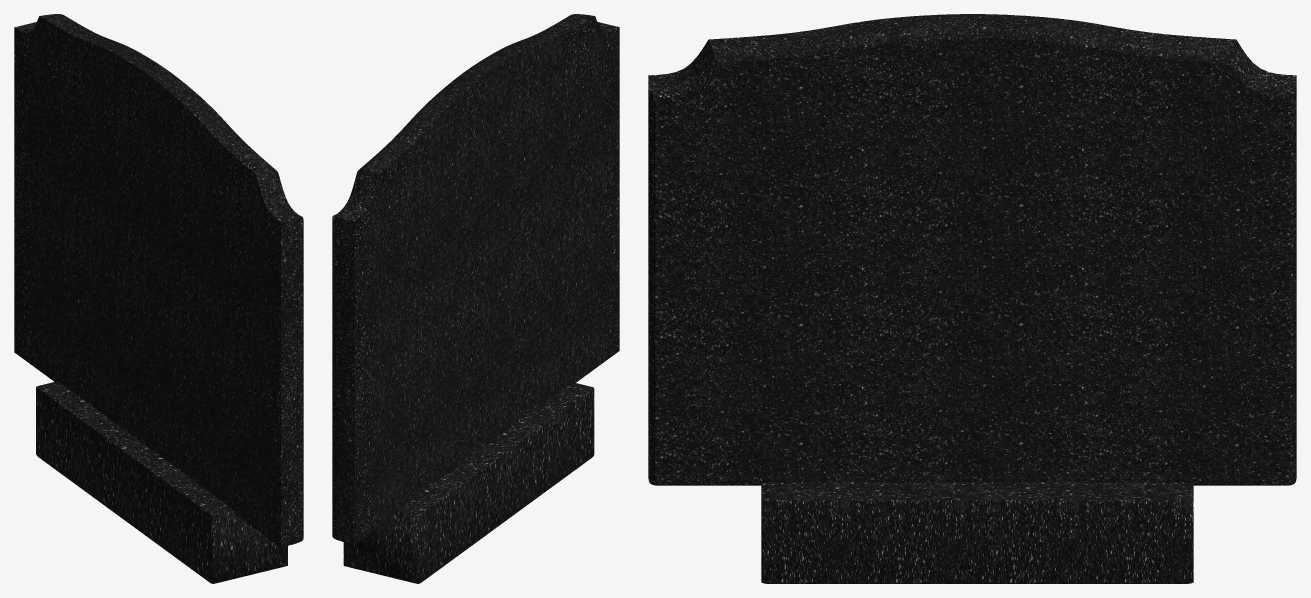
Rendered from Семейный 2 [granite_2_standard] (70).glb.
The picture shows the model from 3 angles, left to right: view 1: azimuth 30°, elevation 25°; view 2: azimuth 150°, elevation 25°; view 3: azimuth 270°, elevation 25°; orthographic projection. The views are drawn at different scales.
Parts seen in each view (by area): view 1: Cube.134, Куб.001; view 2: Cube.134, Куб.001; view 3: Cube.134, Куб.001.
Boxes of the visible parts, x1=… form: Cube.134: x1=14, y1=14, x2=303, y2=547; Куб.001: x1=36, y1=381, x2=287, y2=583; Cube.134: x1=332, y1=14, x2=619, y2=544; Куб.001: x1=343, y1=382, x2=594, y2=583; Cube.134: x1=648, y1=14, x2=1296, y2=485; Куб.001: x1=761, y1=482, x2=1193, y2=583.
Bounding box in the file's own units: 0.15 × 0.8239 × 0.9.
Materials: 2 (2 with a texture image).
